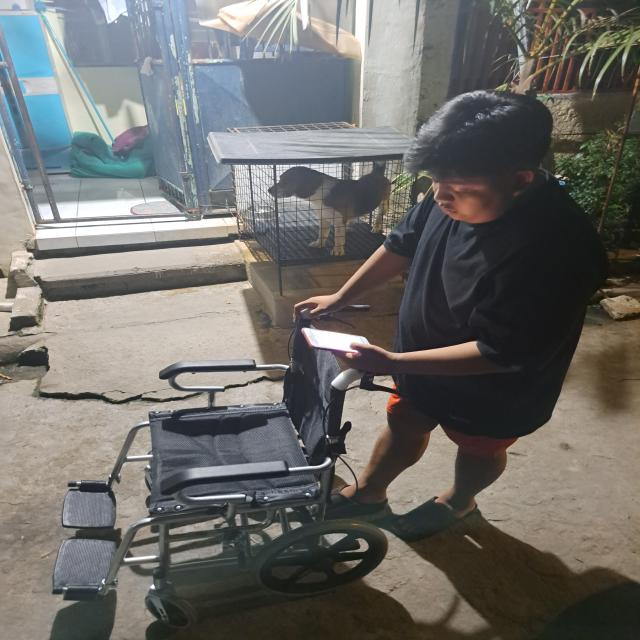wheelchairs: (56, 304, 401, 614)
